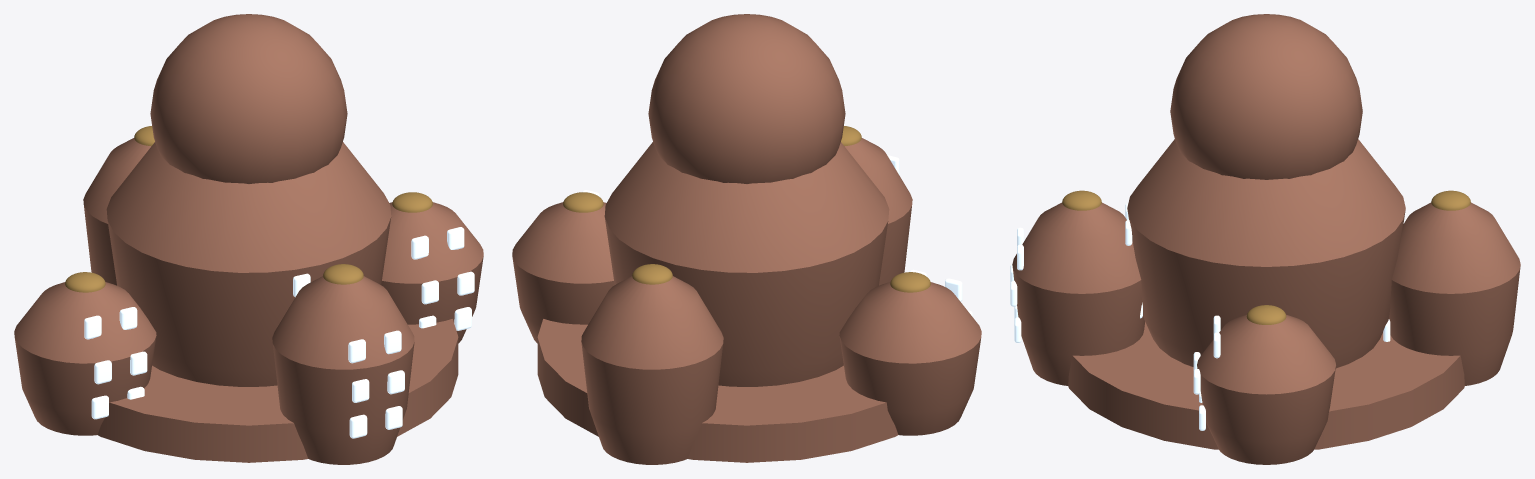
The picture shows the model from 3 angles, left to right: view 1: azimuth 30°, elevation 25°; view 2: azimuth 150°, elevation 25°; view 3: azimuth 270°, elevation 25°; orthographic projection. The views are drawn at different scales.
Visible parts, largest first — view 1: Bulb shaped chamber, Stacked rounded vessel, Bulb shaped chamber.004, Foundation drum, Bulb shaped chamber.003, Bulb shaped chamber.001, Bulb shaped chamber.002, Tower crown.001, Tower crown.003, Tower crown.004; view 2: Bulb shaped chamber, Stacked rounded vessel, Bulb shaped chamber.002, Foundation drum, Bulb shaped chamber.003, Bulb shaped chamber.001, Bulb shaped chamber.004, Tower crown.001, Tower crown.002, Tower crown.003; view 3: Bulb shaped chamber, Stacked rounded vessel, Foundation drum, Bulb shaped chamber.002, Bulb shaped chamber.004, Bulb shaped chamber.001, Tower crown.004, Tower crown.002, Tower crown.001.
Part boxes in pixels (x1,y1,x2,y2): Bulb shaped chamber: [106, 142, 391, 386]; Stacked rounded vessel: [150, 14, 347, 183]; Bulb shaped chamber.004: [272, 276, 414, 464]; Foundation drum: [97, 319, 458, 462]; Bulb shaped chamber.003: [14, 282, 156, 435]; Bulb shaped chamber.001: [381, 202, 483, 343]; Bulb shaped chamber.002: [83, 138, 150, 285]; Tower crown.001: [392, 192, 432, 212]; Tower crown.003: [65, 272, 105, 292]; Tower crown.004: [323, 264, 363, 284]; Bulb shaped chamber: [604, 142, 889, 386]; Stacked rounded vessel: [648, 14, 845, 183]; Bulb shaped chamber.002: [581, 276, 723, 464]; Foundation drum: [537, 319, 898, 462]; Bulb shaped chamber.003: [839, 282, 981, 435]; Bulb shaped chamber.001: [512, 202, 614, 343]; Bulb shaped chamber.004: [845, 138, 912, 285]; Tower crown.001: [563, 192, 603, 212]; Tower crown.002: [632, 264, 672, 284]; Tower crown.003: [890, 272, 930, 292]; Bulb shaped chamber: [1127, 139, 1405, 368]; Stacked rounded vessel: [1170, 14, 1362, 179]; Foundation drum: [1068, 322, 1464, 449]; Bulb shaped chamber.002: [1389, 202, 1520, 385]; Bulb shaped chamber.004: [1012, 202, 1144, 385]; Bulb shaped chamber.001: [1197, 314, 1335, 464]; Tower crown.004: [1062, 190, 1101, 210]; Tower crown.002: [1431, 190, 1470, 210]; Tower crown.001: [1246, 305, 1286, 324].
Size of the model in its own units: 2.53 by 1.89 by 2.55.
